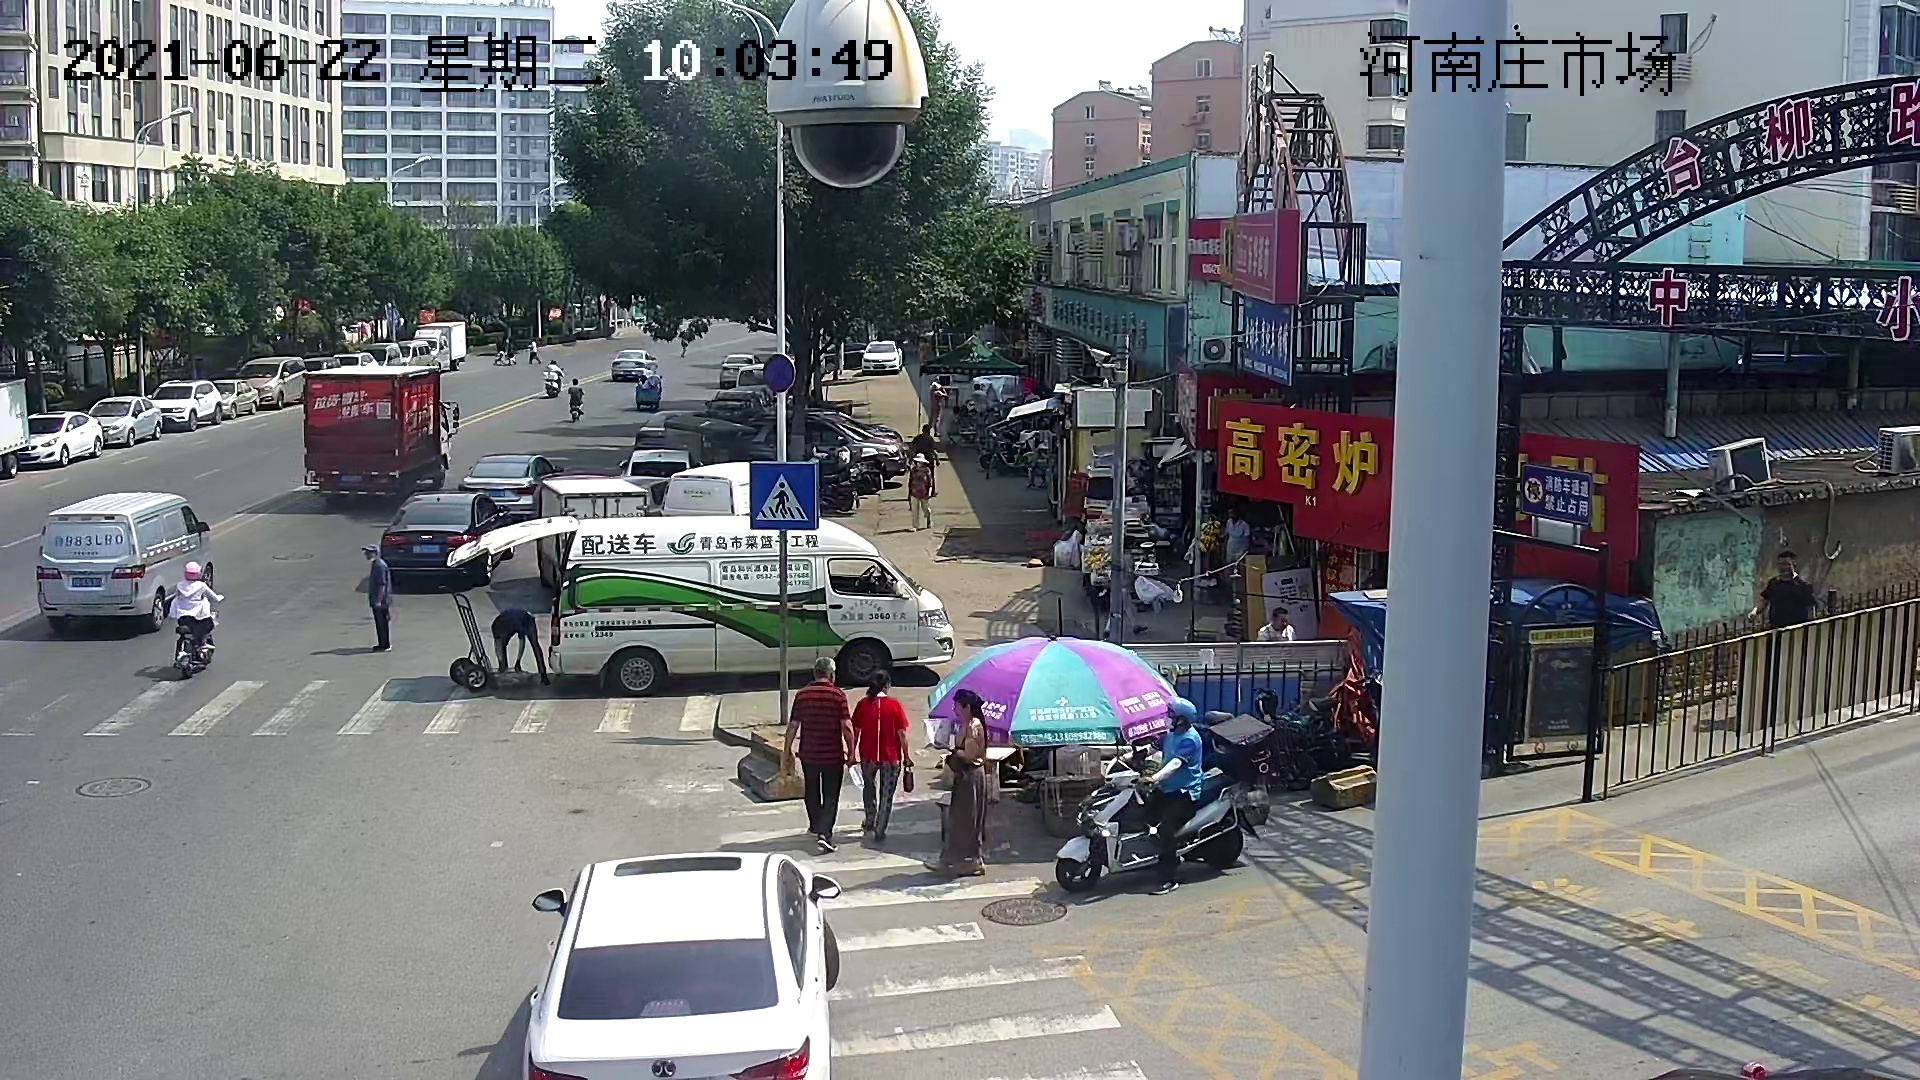umbrella: (924, 634, 1183, 742), (919, 334, 1029, 375)
